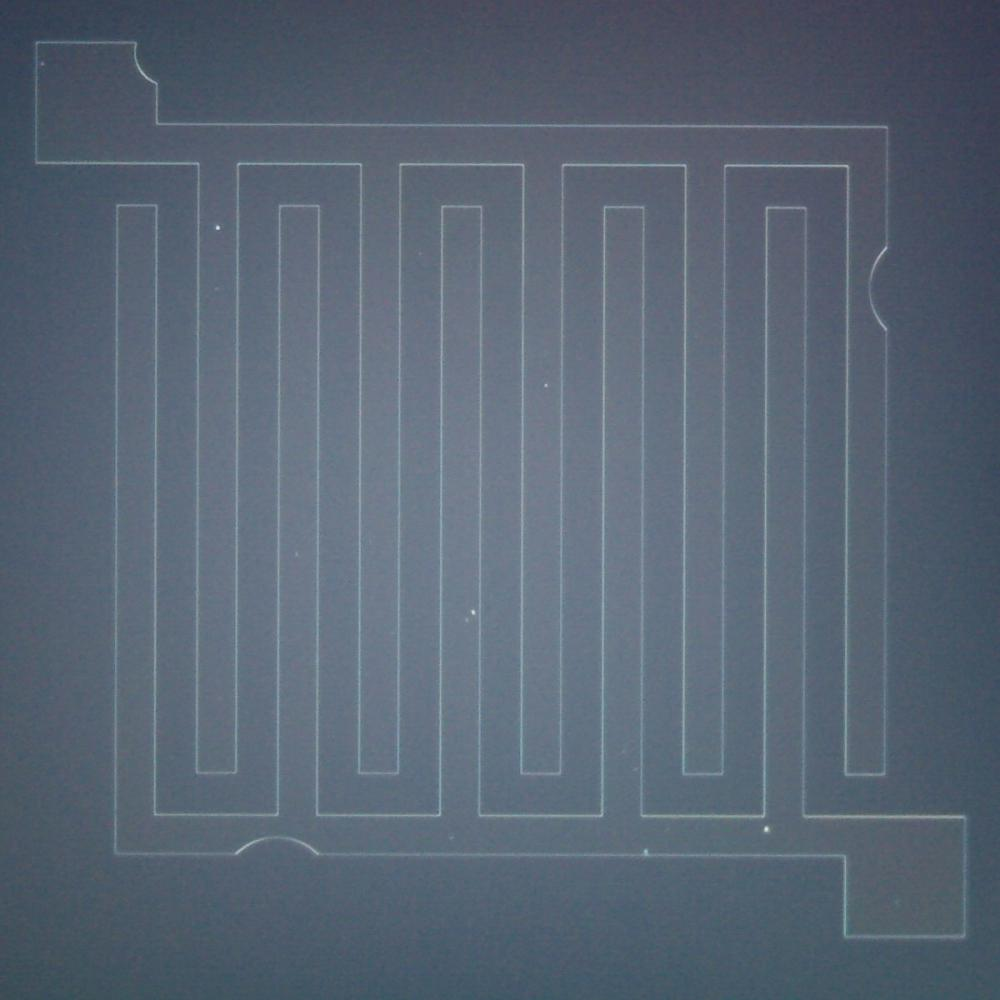dot: (470, 609, 476, 615), (764, 826, 769, 831), (644, 848, 648, 853), (216, 225, 220, 230), (40, 62, 45, 66), (544, 384, 548, 388)
